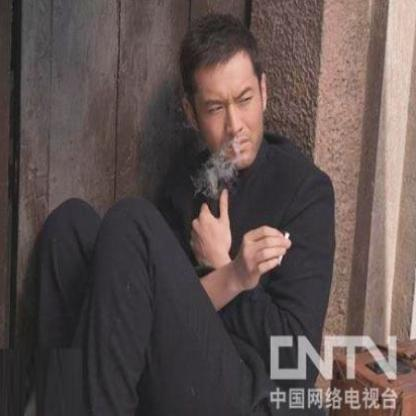person: (43, 7, 329, 411)
smoke: (194, 141, 243, 203)
